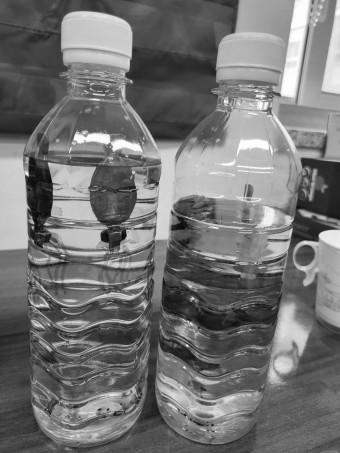bottle: (152, 24, 309, 447), (22, 0, 156, 453)
